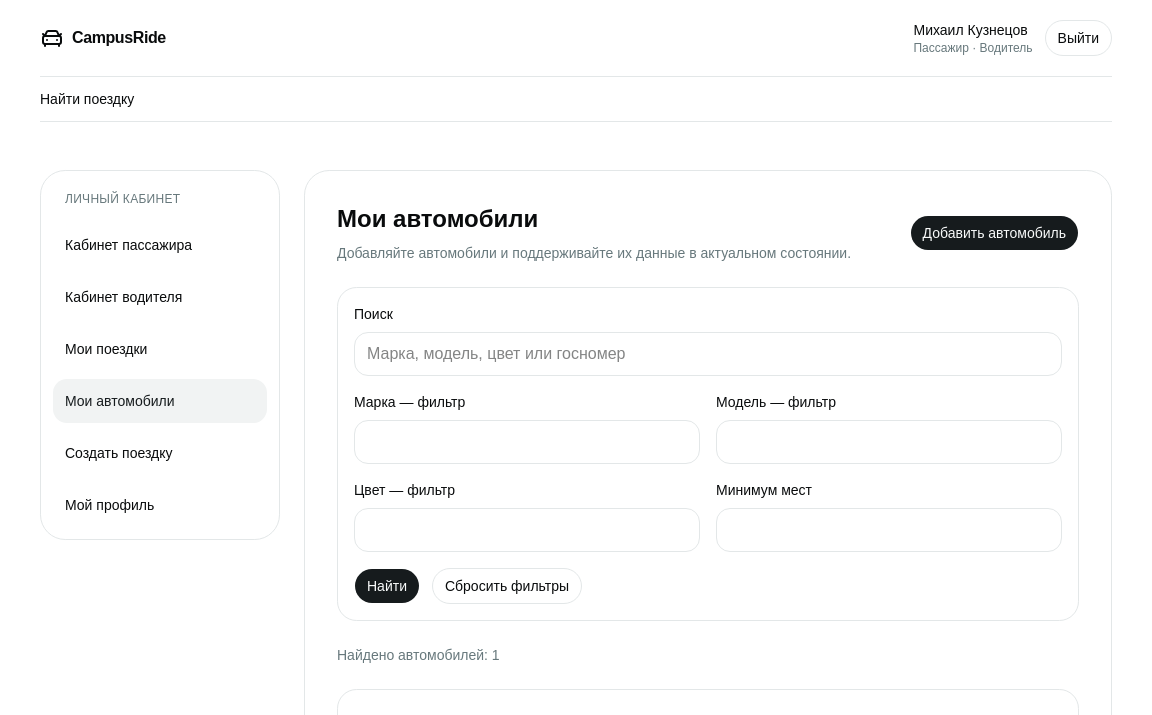
Test case: Экран автомобилей › передаёт поиск и четыре фильтра, отличает пустой результат и сбрасывает условия
This screenshot has width=1152, height=715.
Type "Rio" into the search field labelled "Поиск".
click(708, 354); type("Rio")  # box [354,332,1062,376]
Type "Kia" into the field labelled "Марка — фильтр".
click(527, 442); type("Kia")  # box [354,420,700,464]
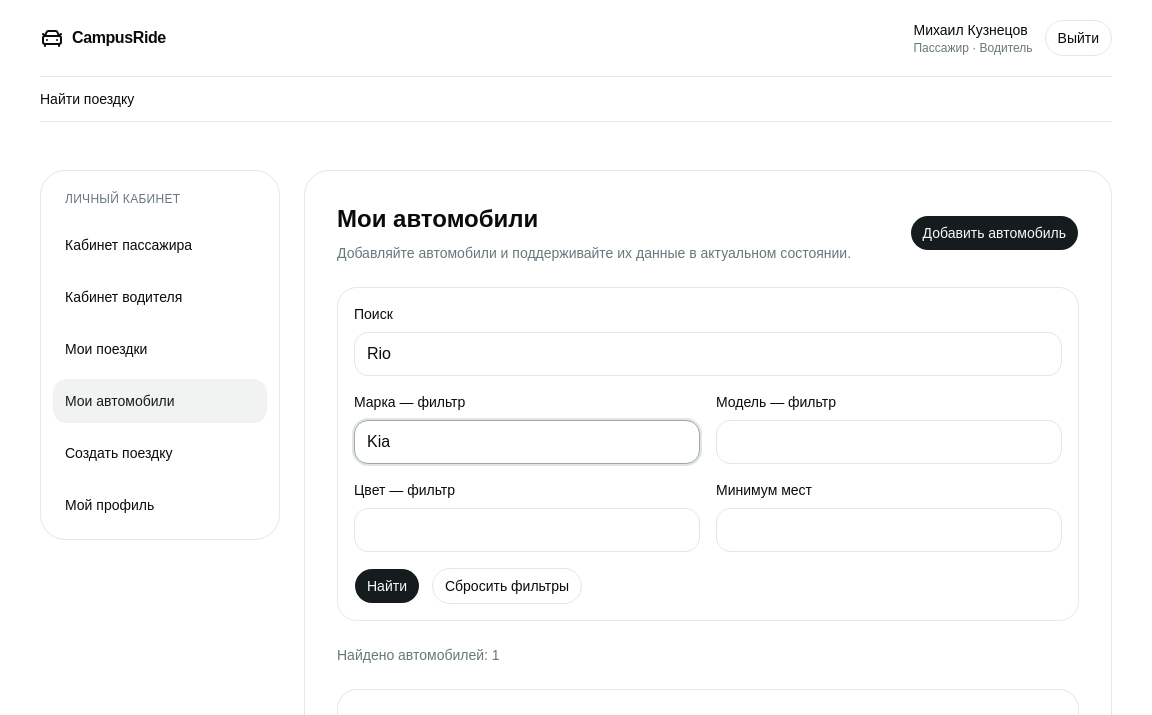
Type "Rio" into the field labelled "Модель — фильтр".
click(889, 442); type("Rio")  # box [716,420,1062,464]
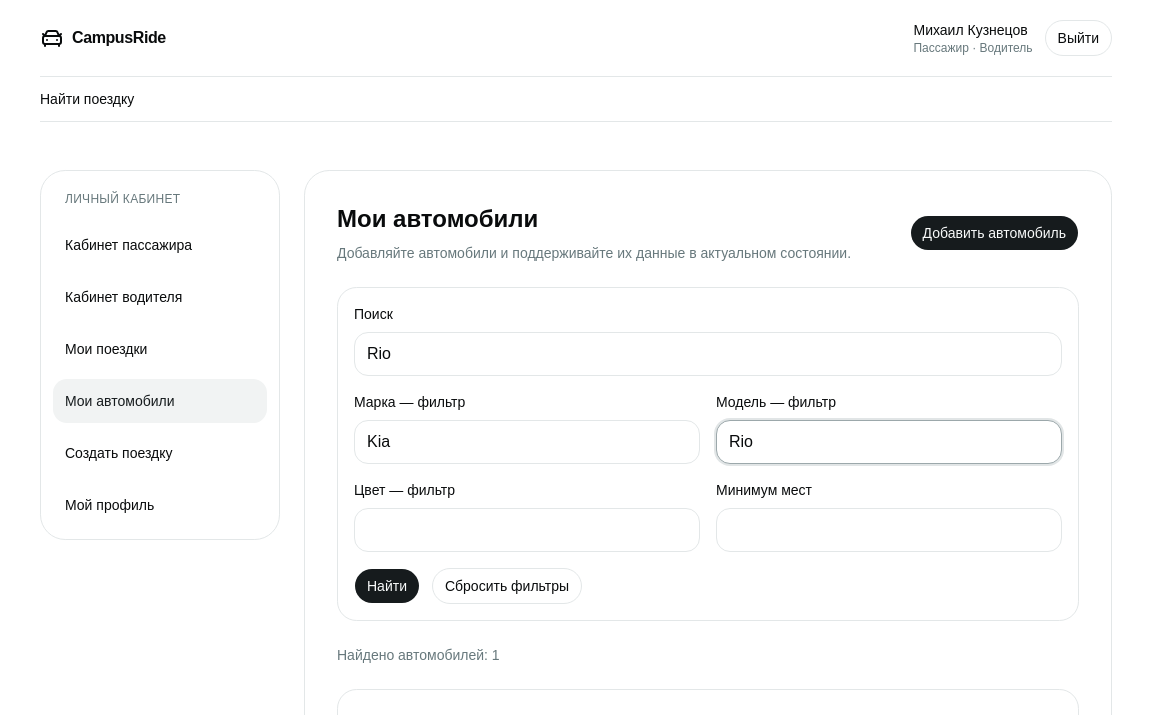
Type "Синий" into the field labelled "Цвет — фильтр".
click(527, 530); type("Синий")  # box [354,508,700,552]
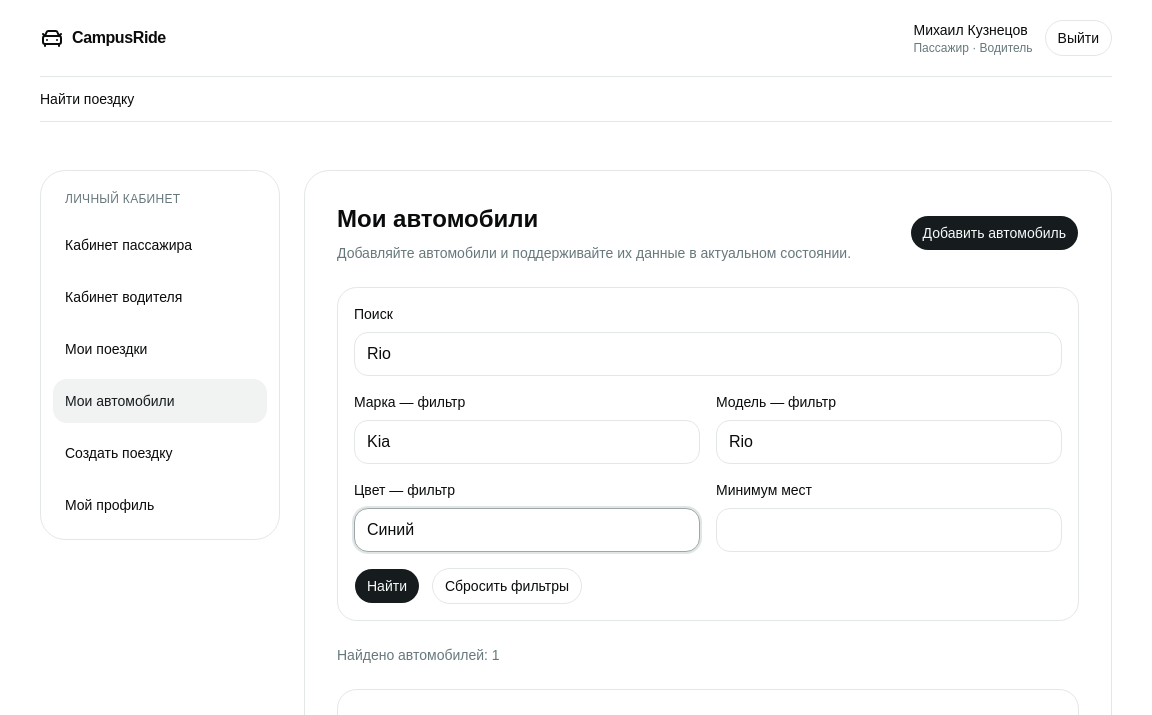
Type "4" into the number field labelled "Минимум мест".
click(889, 530); type("4")  # box [716,508,1062,552]
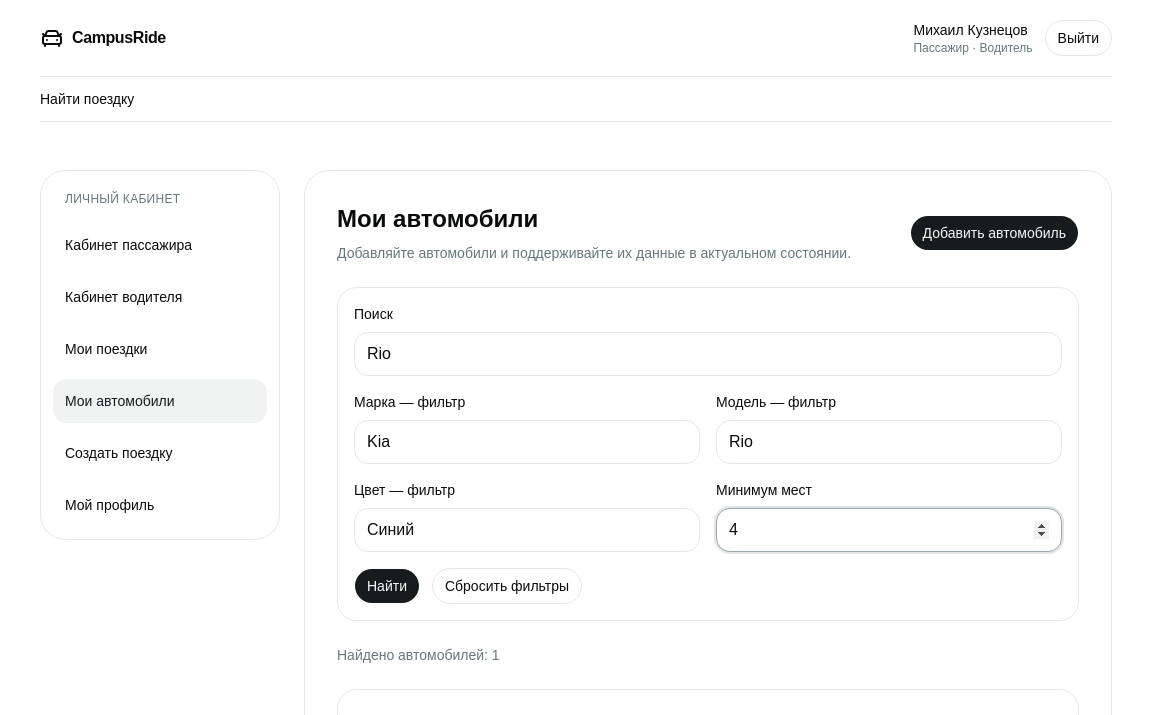
Click the button "Найти".
click(387, 586)  # box [354,568,420,604]
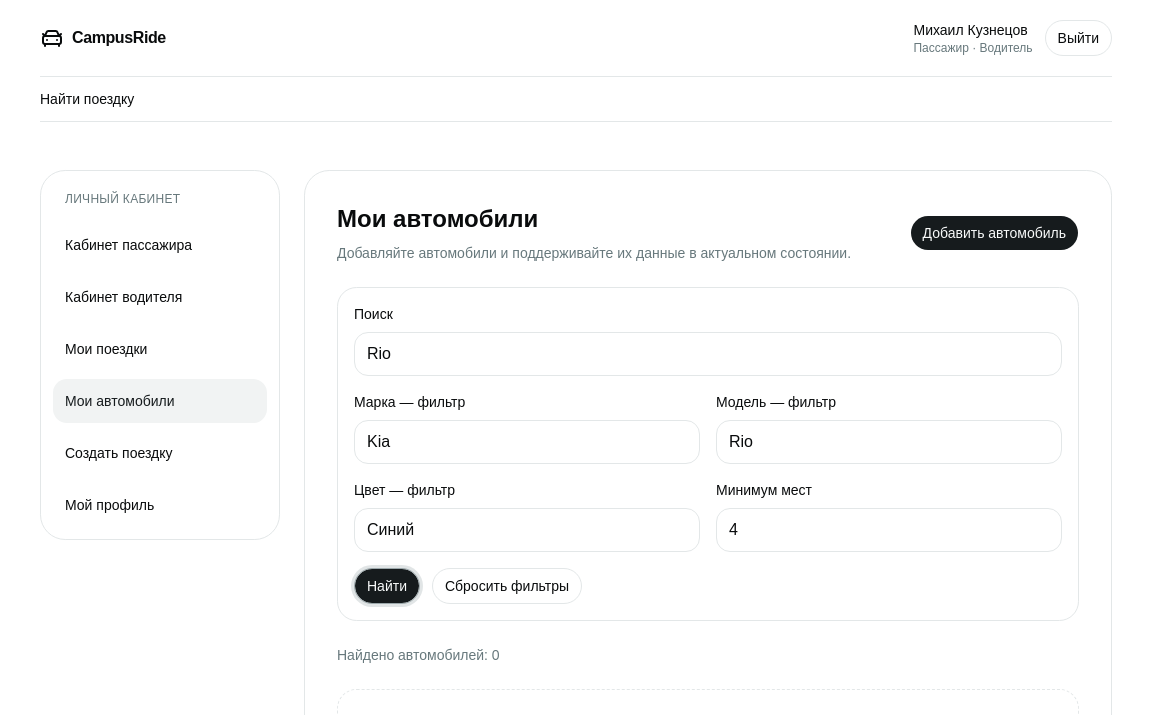
Click the button "Сбросить фильтры".
click(507, 586)  # box [432,568,582,604]
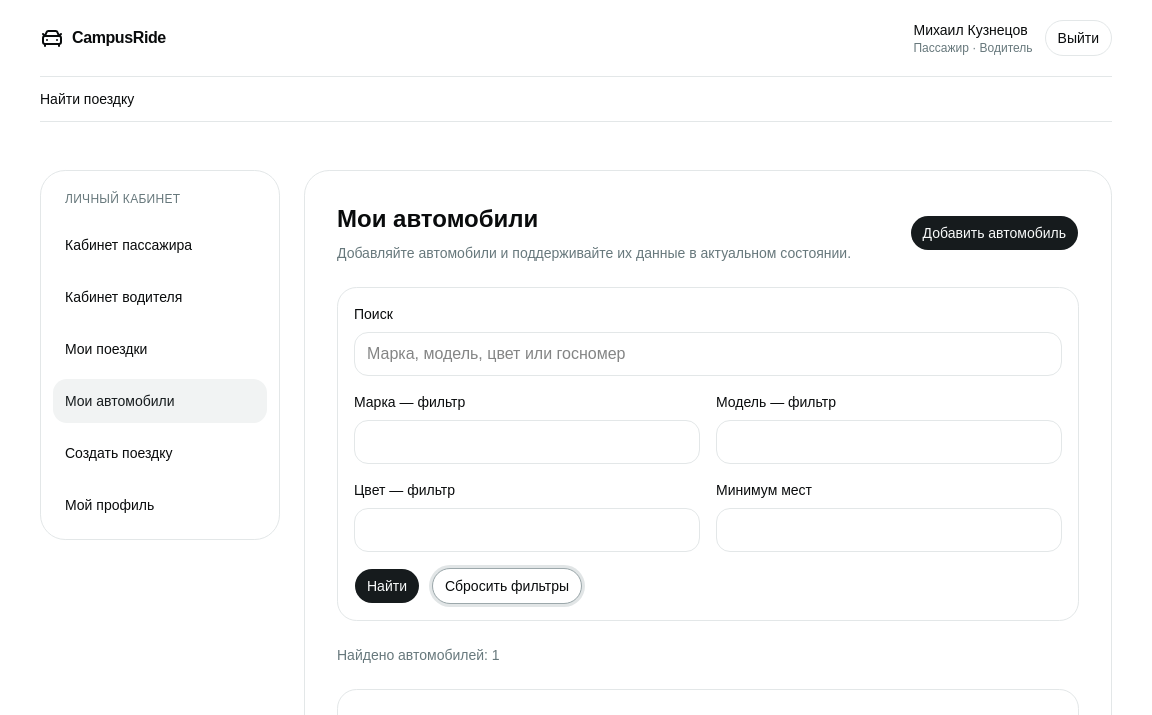
Expected: the search field labelled "Поиск" is empty, [354,332,1062,376]
